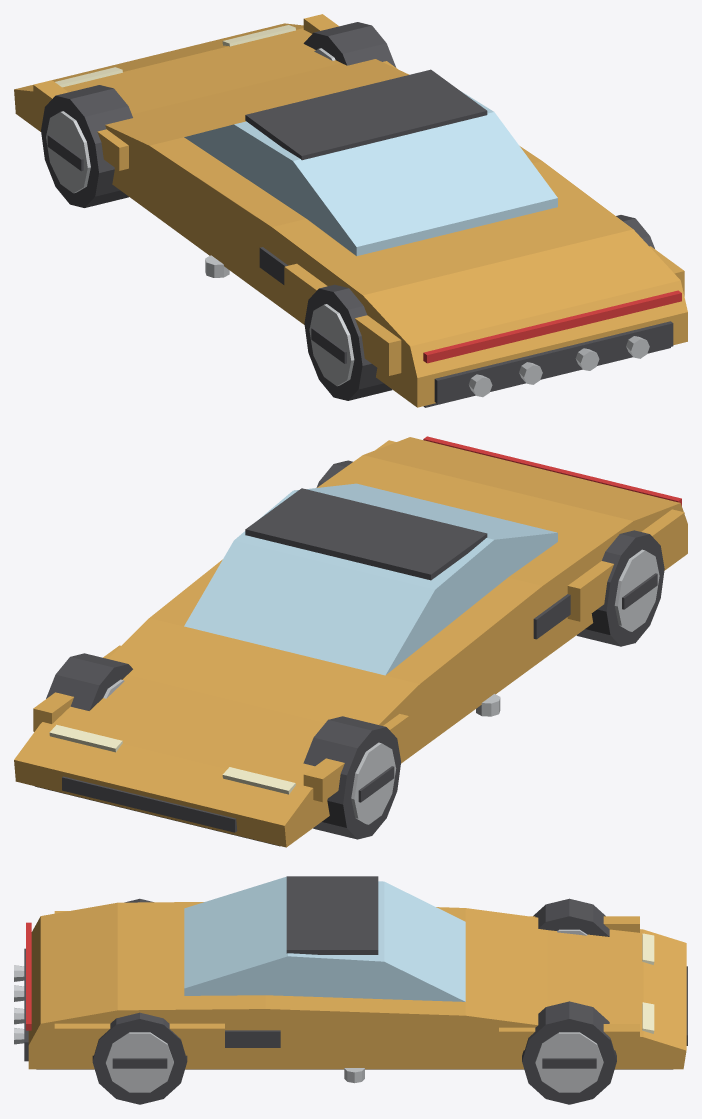
Rendered from roadster.glb.
3 renders of one model, top to bottom at view 1: azimuth 30°, elevation 25°; view 2: azimuth 150°, elevation 25°; view 3: azimuth 270°, elevation 25°, orthographic. The views are drawn at different scales.
Visible parts, largest first — view 1: body, wheel_FL, wheel_RL, wheel_FR; view 2: body, wheel_FL, wheel_RL, wheel_FR; view 3: body, wheel_FR, wheel_RR, wheel_FL.
Boxes of the visible parts, x1=… form: body: x1=14, y1=14, x2=687, y2=407; wheel_FL: x1=41, y1=85, x2=132, y2=207; wheel_RL: x1=304, y1=284, x2=392, y2=400; wheel_FR: x1=303, y1=22, x2=396, y2=67; body: x1=14, y1=436, x2=687, y2=847; wheel_FL: x1=303, y1=716, x2=400, y2=839; wheel_RL: x1=576, y1=530, x2=664, y2=646; wheel_FR: x1=46, y1=653, x2=132, y2=710; body: x1=14, y1=876, x2=687, y2=1083; wheel_FR: x1=522, y1=1001, x2=616, y2=1104; wheel_RR: x1=92, y1=1012, x2=187, y2=1104; wheel_FL: x1=533, y1=898, x2=609, y2=936.
Bounding box in the file's own units: 1.99 × 0.9795 × 4.55.
